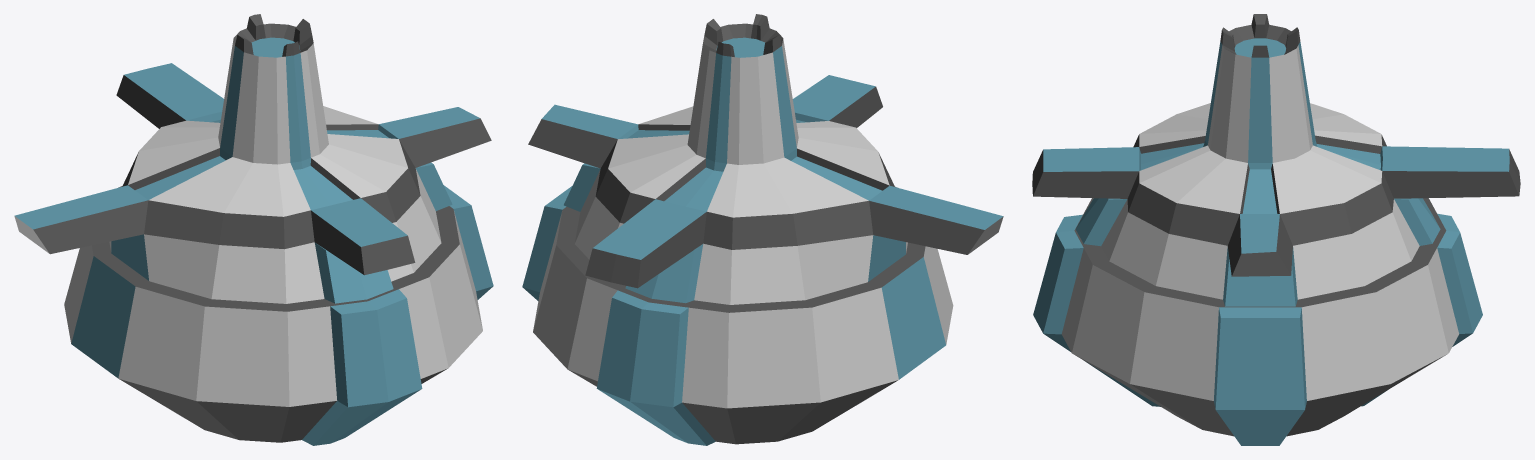
File: PodCryoTubeDown.dae
The picture shows the model from 3 angles, left to right: view 1: azimuth 30°, elevation 25°; view 2: azimuth 150°, elevation 25°; view 3: azimuth 270°, elevation 25°; orthographic projection.
Visible parts, largest first — view 1: PodCryoTube; view 2: PodCryoTube; view 3: PodCryoTube.
Part boxes in pixels (x1=…): PodCryoTube: x1=14, y1=14, x2=493, y2=445; PodCryoTube: x1=522, y1=14, x2=1003, y2=445; PodCryoTube: x1=1032, y1=14, x2=1520, y2=445.
Bounding box in the file's own units: 2.78 × 2.63 × 2.19.
